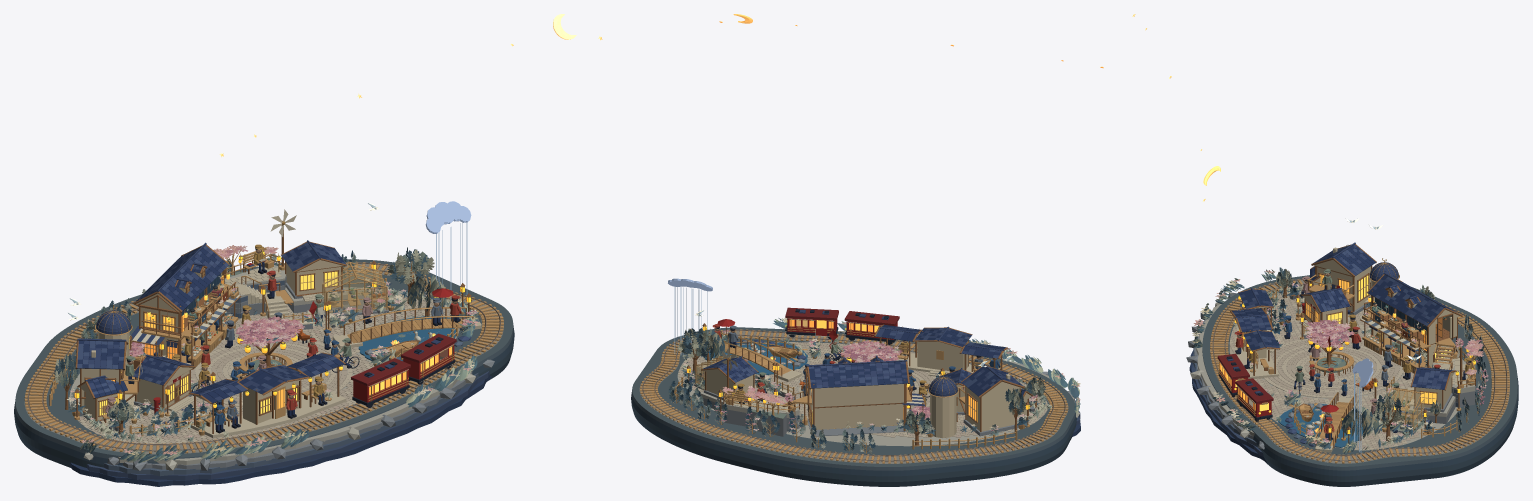
The model's file is town.glb.
3 renders of one model, left to right at view 1: azimuth 30°, elevation 25°; view 2: azimuth 150°, elevation 25°; view 3: azimuth 270°, elevation 25°, orthographic. The views are drawn at different scales.
Visible parts, largest first — view 1: district/04_Station_Tram, district/00_Terrain, district/Scene Collection, district/01_Plaza, district/03_Post_Residential, district/02_Teahouse_Market, district/06_Hillside, district/05_Water_Garden, district/07_Paper_Foliage, entity/tram.tram_car_rear/body, entity/tram.tram_car_front/body, part/tree.lantern_tree/foliage.001 (+5 smaller); view 2: district/Scene Collection, district/04_Station_Tram, district/02_Teahouse_Market, district/03_Post_Residential, district/06_Hillside, district/07_Paper_Foliage, district/01_Plaza, district/05_Water_Garden, district/00_Terrain, entity/tram.tram_car_front/body, entity/tram.tram_car_rear/body, part/tree.lantern_tree/foliage.001 (+3 smaller); view 3: district/Scene Collection, district/04_Station_Tram, district/01_Plaza, district/02_Teahouse_Market, district/03_Post_Residential, district/06_Hillside, district/00_Terrain, district/05_Water_Garden, district/07_Paper_Foliage, entity/tram.tram_car_front/body, part/tree.lantern_tree/foliage.001, entity/tram.tram_car_rear/body (+2 smaller).
Part boxes in pixels (x1,y1,x2,y2): district/04_Station_Tram: (24, 261, 503, 454); district/00_Terrain: (69, 287, 494, 486); district/Scene Collection: (14, 259, 514, 467); district/01_Plaza: (78, 293, 451, 443); district/03_Post_Residential: (49, 267, 458, 437); district/02_Teahouse_Market: (131, 242, 241, 369); district/06_Hillside: (210, 240, 347, 319); district/05_Water_Garden: (283, 261, 481, 361); district/07_Paper_Foliage: (82, 250, 478, 443); entity/tram.tram_car_rear/body: (351, 358, 410, 405); entity/tram.tram_car_front/body: (401, 333, 456, 382); part/tree.lantern_tree/foliage.001: (236, 316, 304, 347); district/Scene Collection: (631, 327, 1076, 486); district/04_Station_Tram: (640, 324, 1068, 463); district/02_Teahouse_Market: (802, 355, 925, 436); district/03_Post_Residential: (674, 335, 1037, 449); district/06_Hillside: (700, 356, 812, 436); district/07_Paper_Foliage: (668, 338, 1051, 453); district/01_Plaza: (678, 342, 1047, 438); district/05_Water_Garden: (694, 333, 807, 400); district/00_Terrain: (677, 329, 1080, 446); entity/tram.tram_car_front/body: (785, 307, 838, 336); entity/tram.tram_car_rear/body: (844, 311, 899, 342); part/tree.lantern_tree/foliage.001: (840, 340, 903, 362); district/Scene Collection: (1202, 275, 1518, 486); district/04_Station_Tram: (1210, 277, 1509, 461); district/01_Plaza: (1229, 291, 1432, 450); district/02_Teahouse_Market: (1360, 272, 1462, 373); district/03_Post_Residential: (1265, 242, 1457, 438); district/06_Hillside: (1403, 338, 1475, 423); district/00_Terrain: (1186, 288, 1460, 462); district/05_Water_Garden: (1278, 376, 1424, 452); district/07_Paper_Foliage: (1233, 284, 1488, 450); entity/tram.tram_car_front/body: (1235, 378, 1273, 420); part/tree.lantern_tree/foliage.001: (1305, 319, 1354, 348); entity/tram.tram_car_rear/body: (1217, 353, 1249, 395).
Size of the model in its own units: 28.34 by 20.57 by 23.05.
